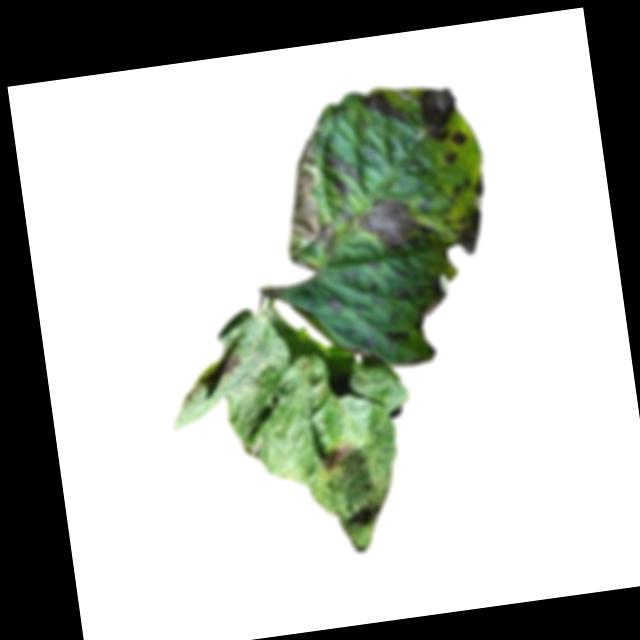Early_blight: (273, 132, 338, 262), (349, 192, 434, 260), (411, 85, 461, 146), (442, 201, 486, 257), (356, 86, 407, 131), (326, 146, 363, 198), (315, 439, 356, 479), (452, 174, 488, 201), (217, 351, 243, 379), (382, 326, 412, 346), (322, 293, 342, 316), (441, 150, 459, 167), (449, 131, 466, 148)
